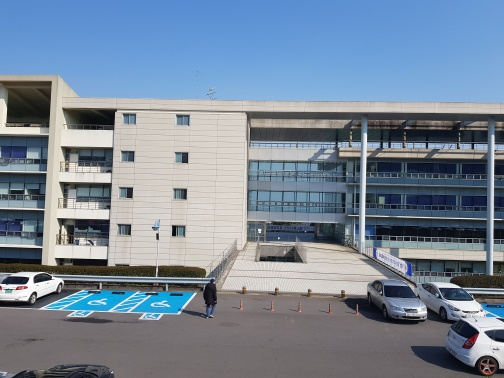Engineering College Building 4: (1, 80, 504, 267), (254, 101, 503, 281), (67, 101, 251, 269)
